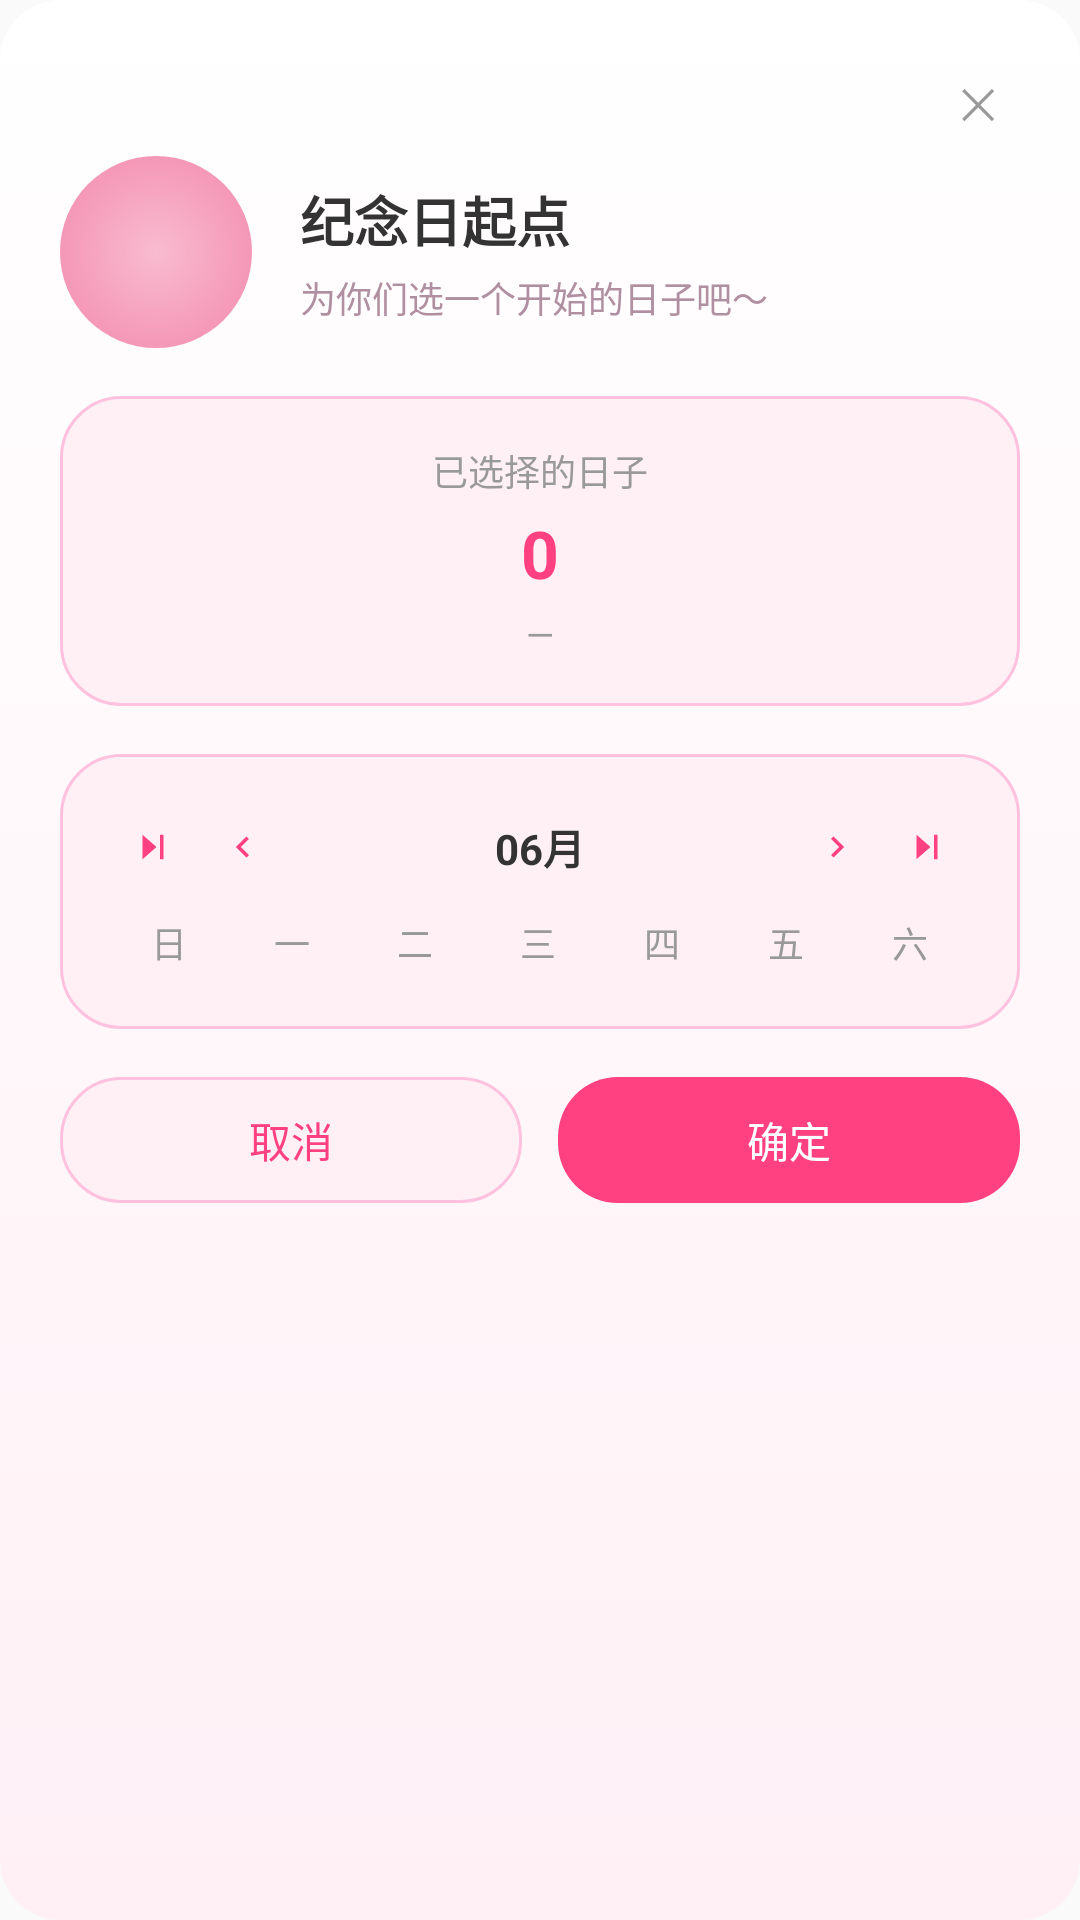

Icon bounding boxes for this 1080px x 1920px phone screenshot, format (x1, y1, x2, y2):
下一年: (916, 834, 938, 860)
